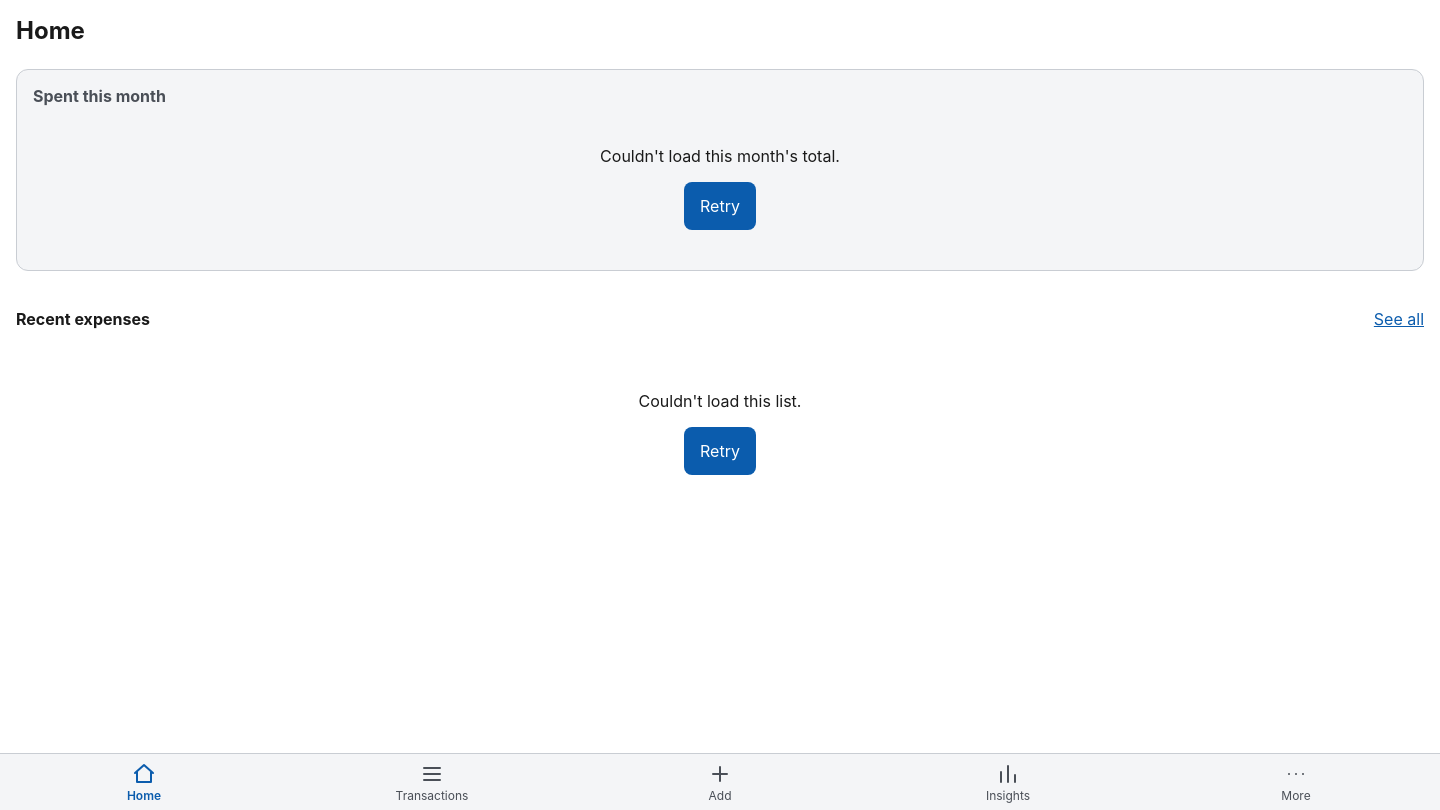
REQ-UI-020 Home › REQ-UI-020 shows error with retry, and Retry refetches
Click the button "Retry" below "Couldn't load this month's total.": (720, 206) [684,182,756,230]
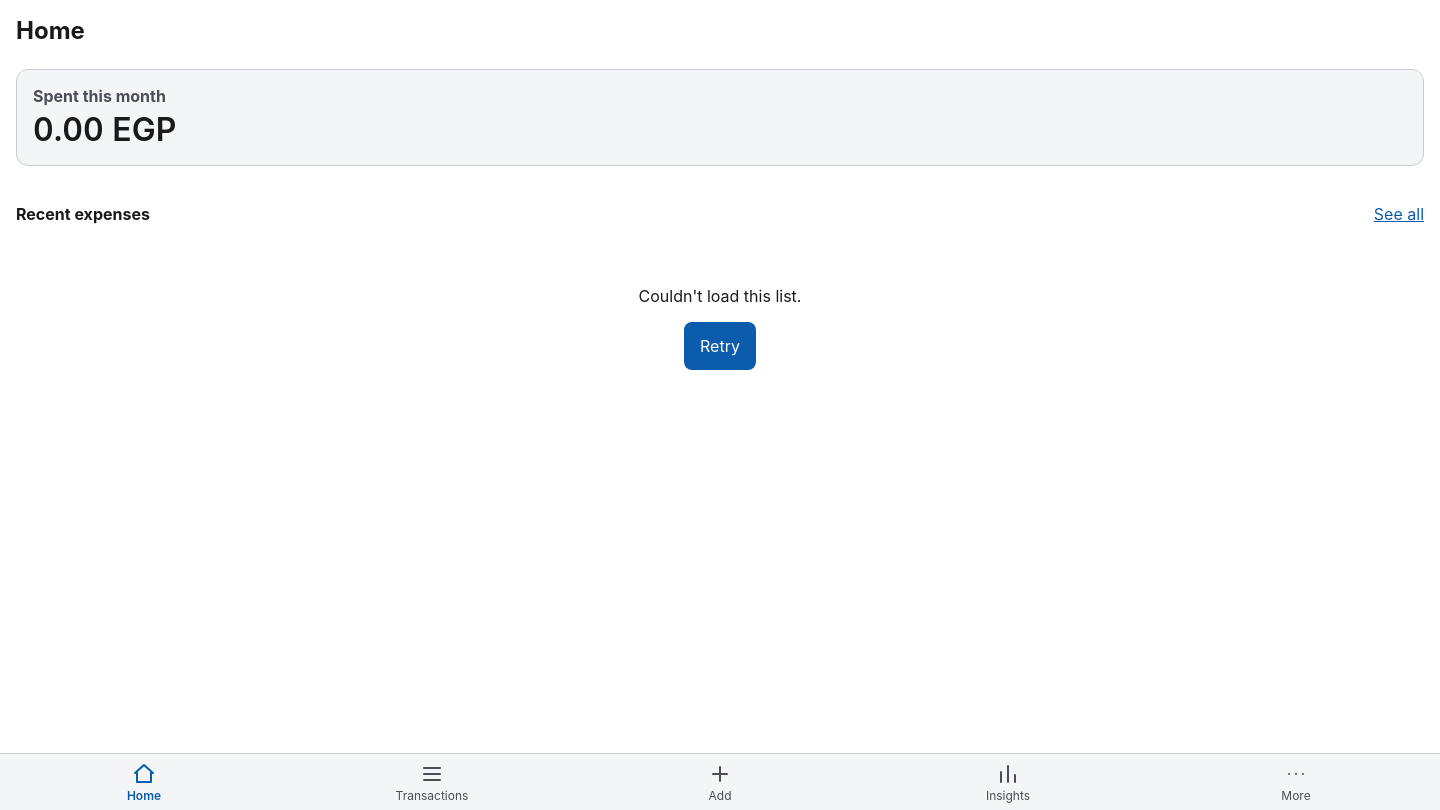
Click the button "Retry": (720, 346) [684,322,756,370]
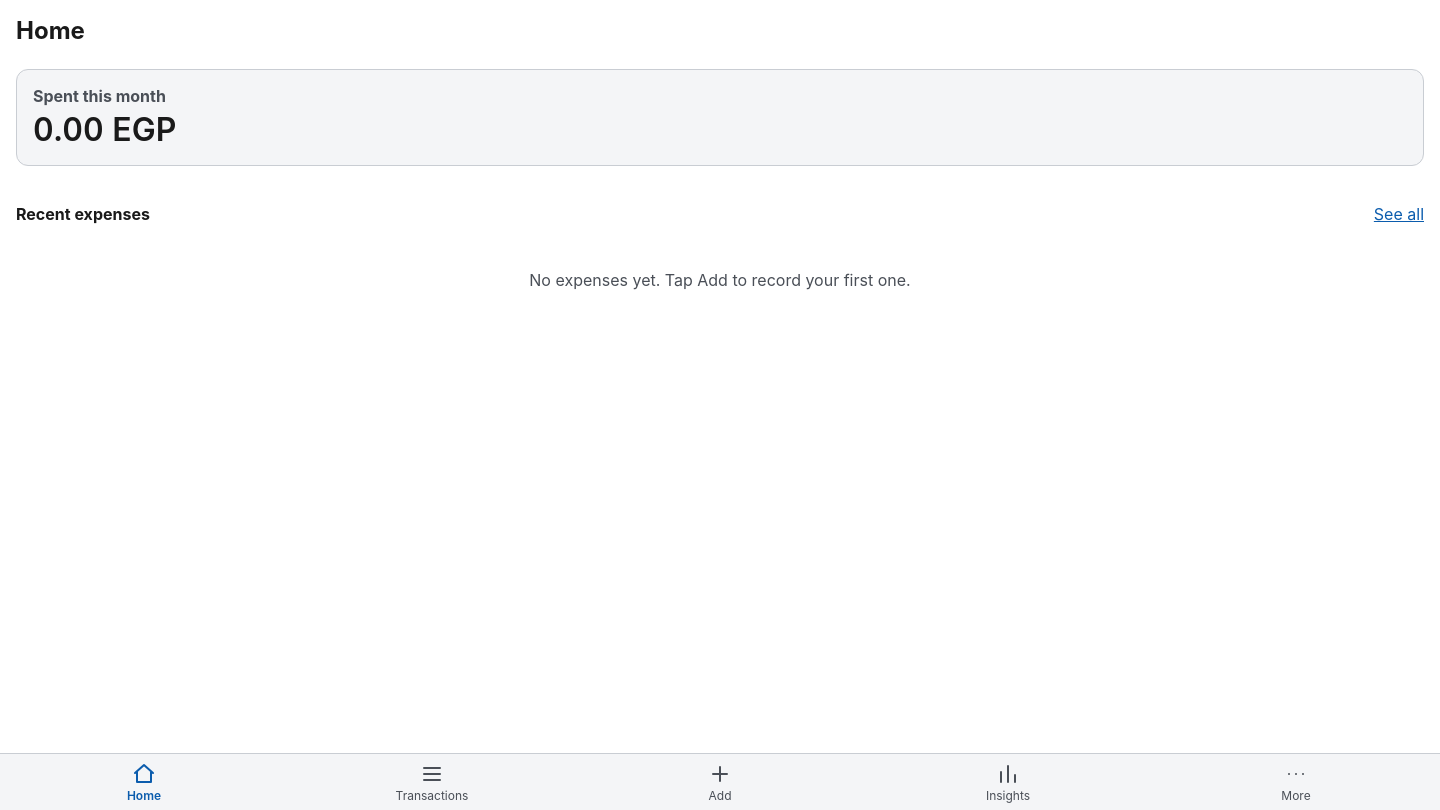
Now the text "No expenses yet. Tap Add to record your first one." is shown, box [529,270,911,290]
